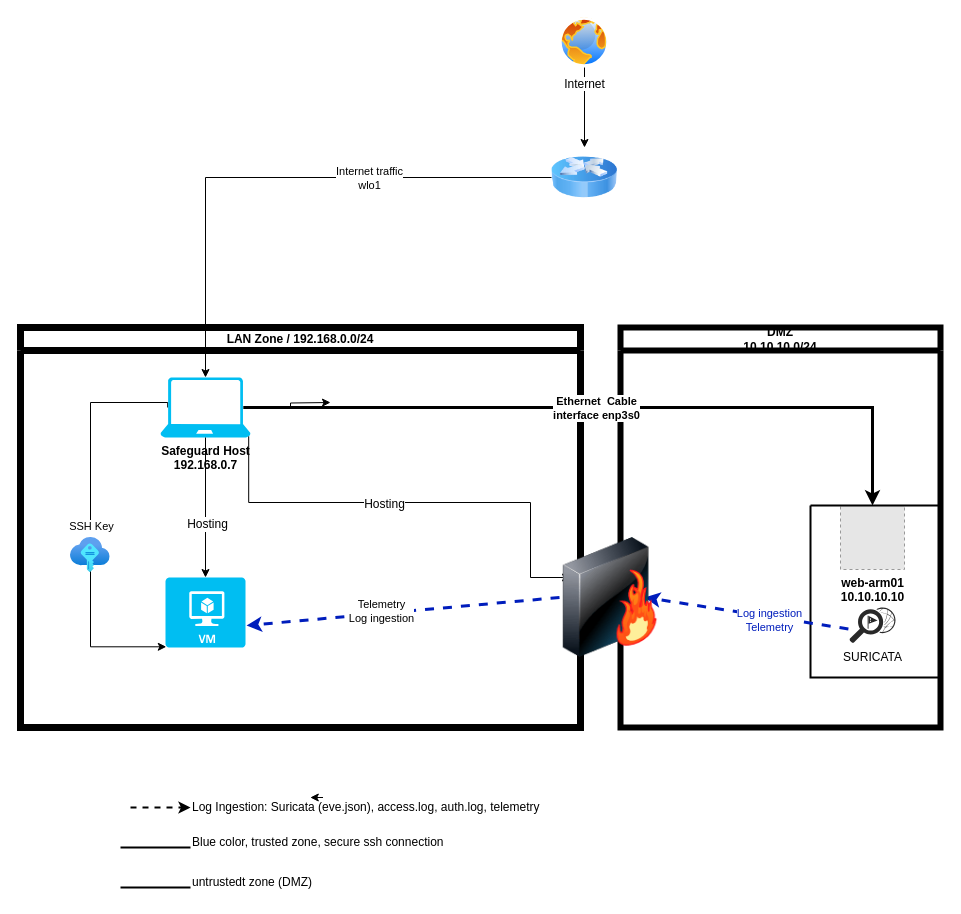
The diagram is 961 pixels wide and 914 high, and some of its shapes have lost their labels. Grey dashed boxes stand in for pictures. The shapes that lost their labels are listed below. From the top down, each one's centre as x and y in pixels, then its label:
At (584,177): "Router 192.168.0.1".
At (205,612): "soc-core04 192.168.0.5 Graylog".
At (610,597): "Firewall VM / sentry-gate01 wlo1: 192.168.0.x enp3s0: 10.10.10.x".
